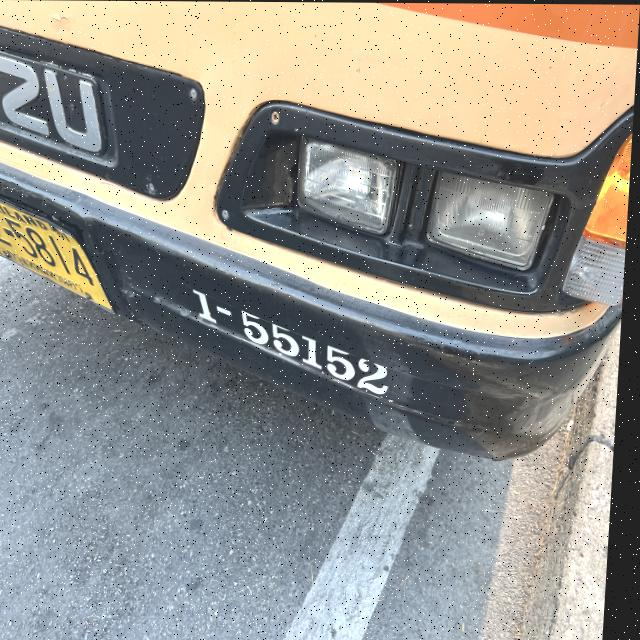BMTA-bus: (0, 0, 640, 463)
Bus Side Number: (186, 283, 412, 411)
